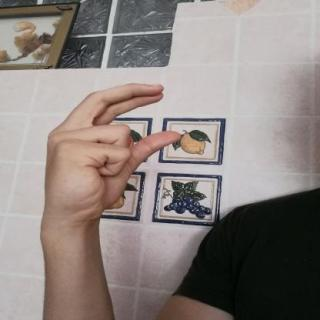DHELL: (33, 76, 190, 228)
